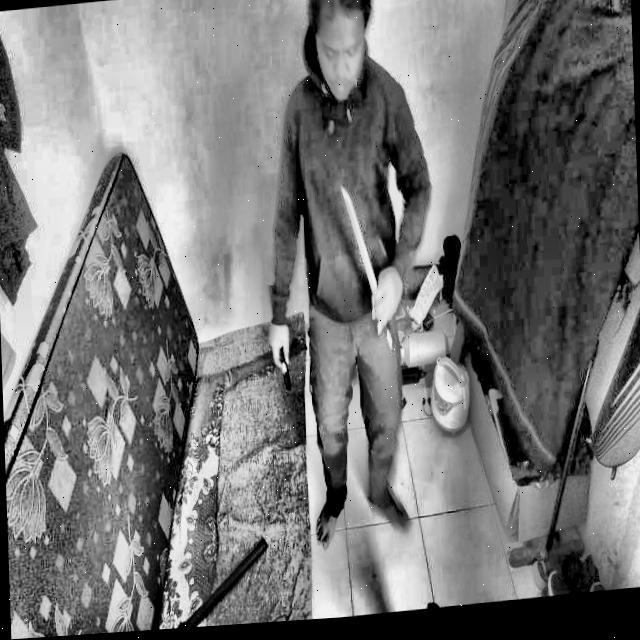pisau: (326, 179, 401, 350)
